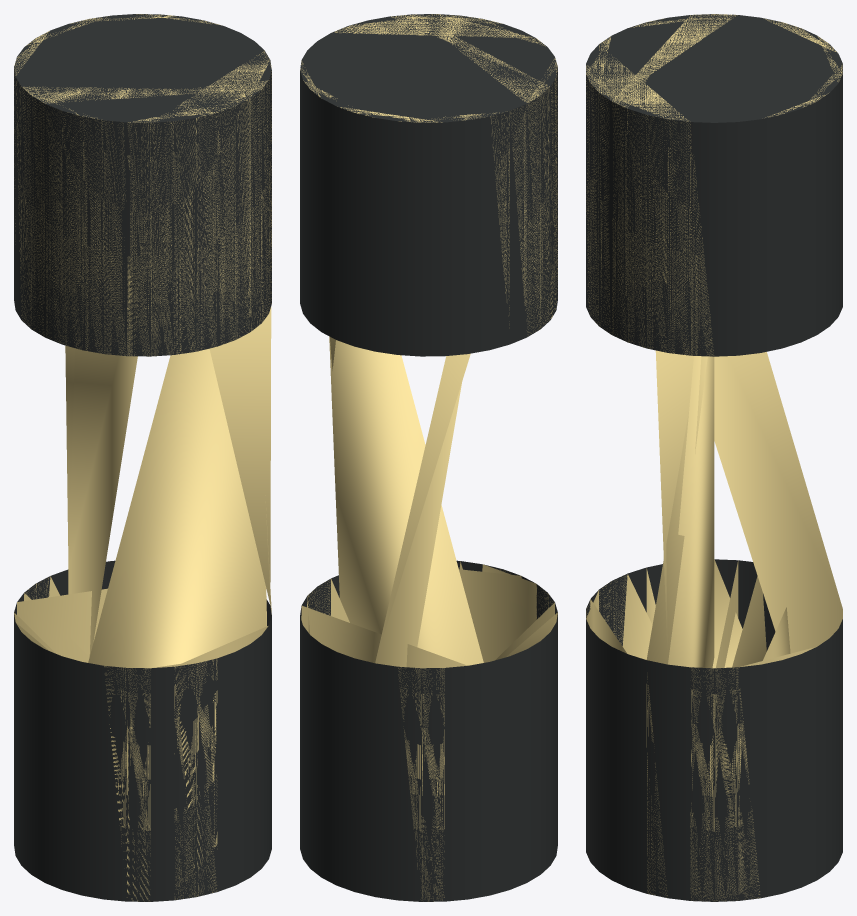
The model's file is rarm_link7.dae.
3 renders of one model, left to right at view 1: azimuth 30°, elevation 25°; view 2: azimuth 150°, elevation 25°; view 3: azimuth 270°, elevation 25°, orthographic.
Parts seen in each view (by area): view 1: node0, node1; view 2: node0, node1; view 3: node0, node1.
Part boxes in pixels (x1,y1,x2,y2): node0: [14, 14, 271, 901]; node1: [14, 14, 271, 901]; node0: [300, 14, 557, 901]; node1: [300, 14, 557, 901]; node0: [586, 14, 842, 901]; node1: [586, 14, 842, 900].
Size of the model in its own units: 0.015 by 0.05 by 0.0149.
